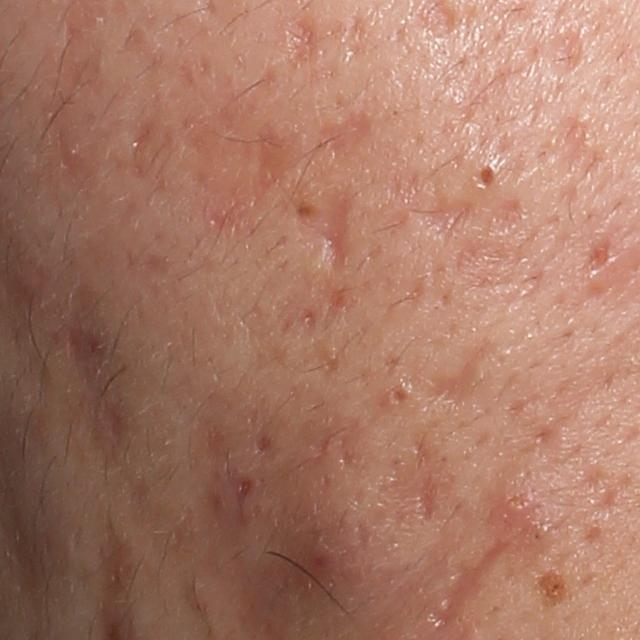atrophic_scar: (421, 190, 582, 411), (67, 283, 142, 476), (349, 424, 456, 556), (421, 530, 531, 630), (265, 6, 384, 91), (295, 185, 355, 282), (240, 126, 308, 202), (312, 115, 388, 178), (540, 27, 591, 86), (590, 239, 614, 271), (295, 303, 317, 335)
comedo: (472, 158, 505, 192), (386, 384, 414, 409)
papule: (487, 476, 538, 520)
